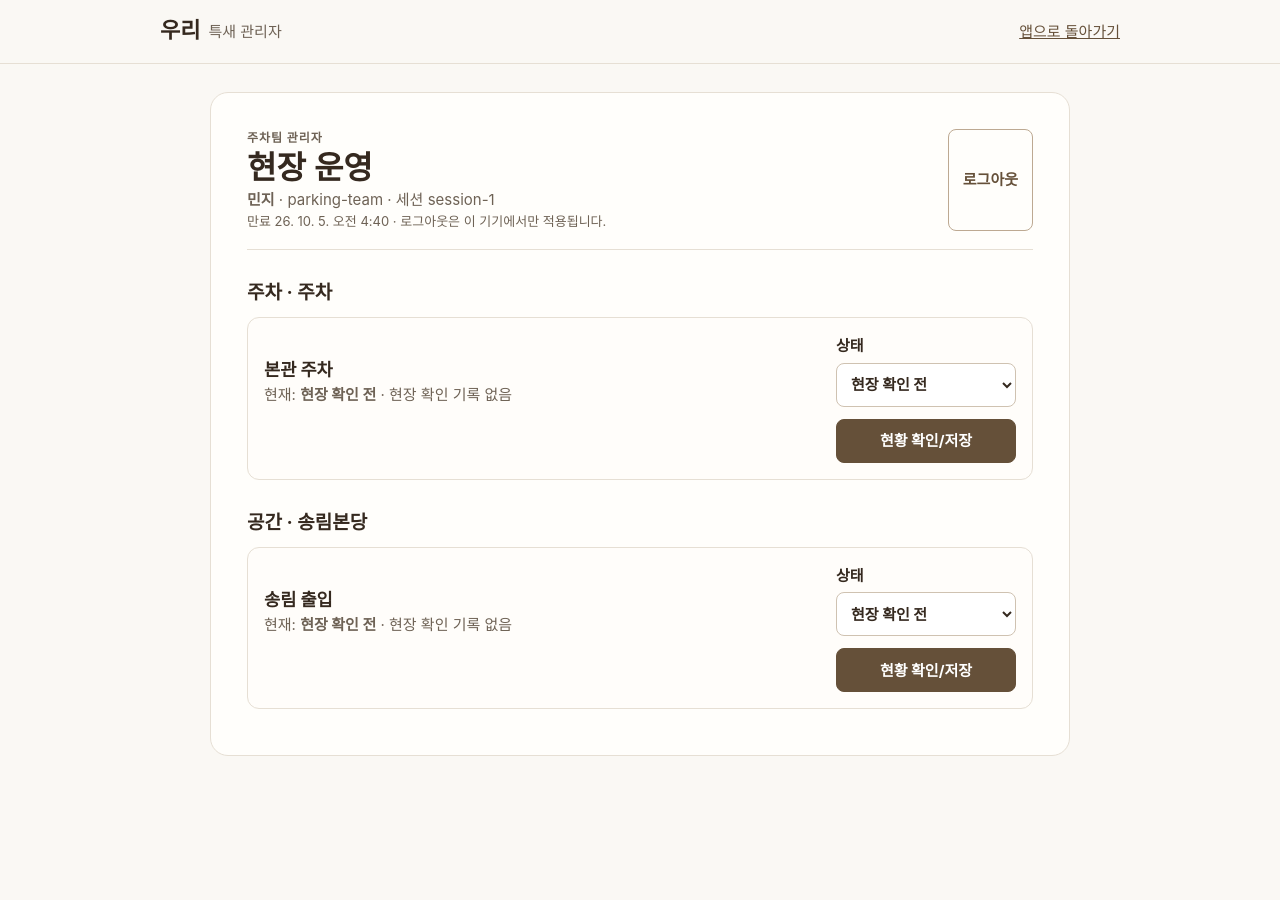
it: role-aware AdminApp › preserves a draft on 409 and requires an explicit latest-state reread before resend
Select "만차" in the dropdown named "본관 주차 상태" at (926, 385), box left=836, top=363, right=1016, bottom=407
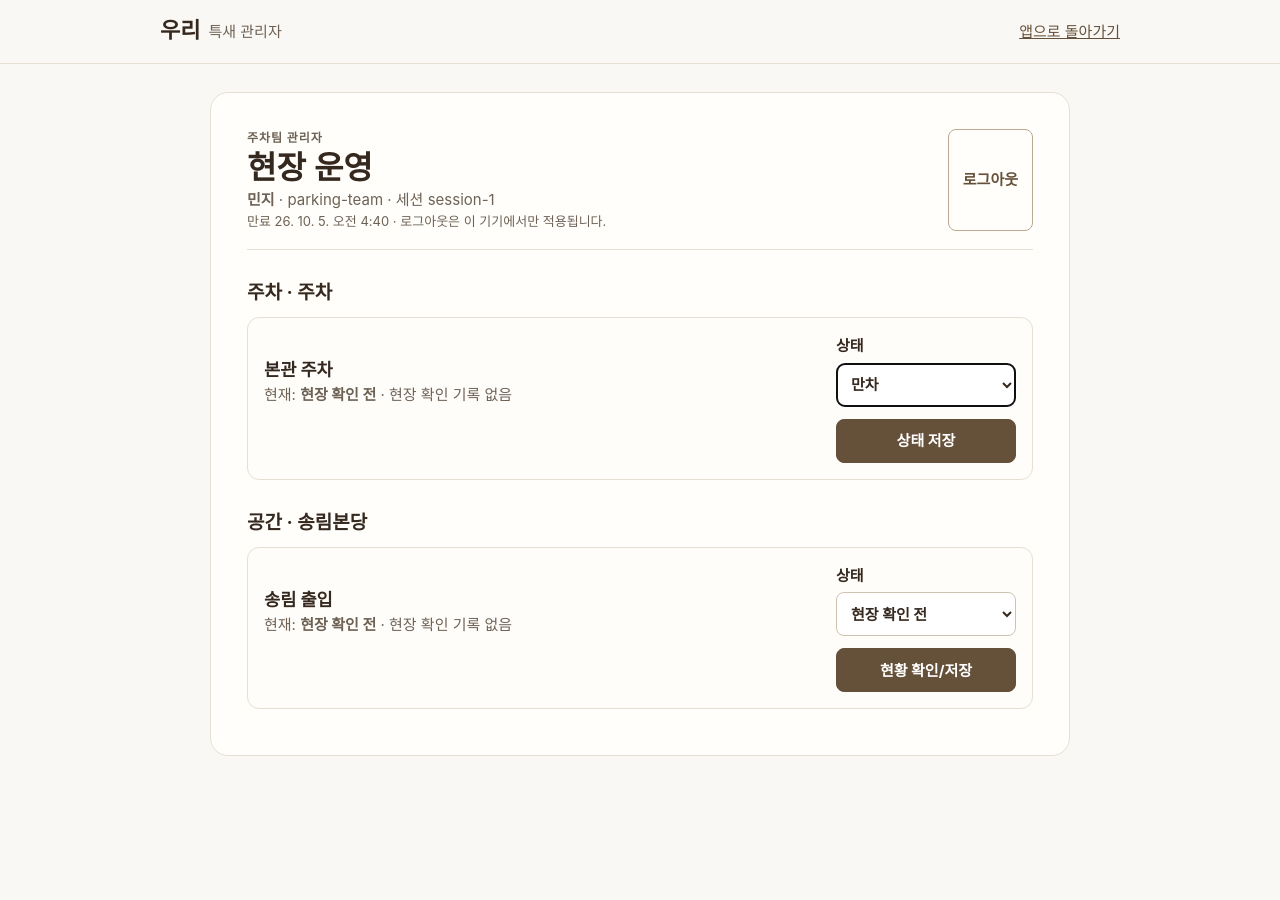
Click the button "상태 저장" at (926, 441), box left=836, top=419, right=1016, bottom=463
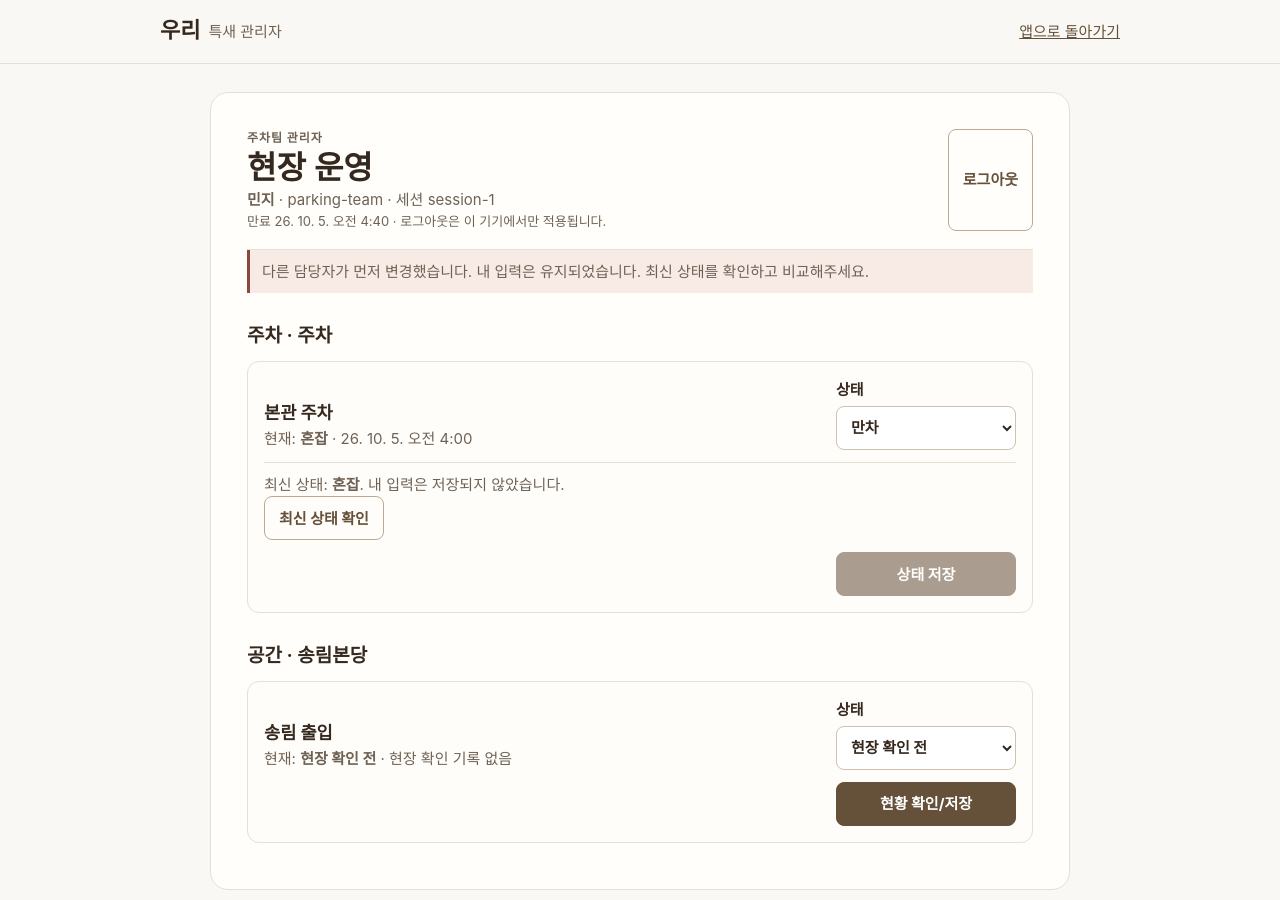
Result: the text "다른 담당자가 먼저 변경했습니다. 내 입력은 유지되었습니다. 최신 상태를 확인하고 비교해주세요." is shown at left=247, top=250, right=1033, bottom=293
Result: the button "상태 저장" is disabled at left=836, top=552, right=1016, bottom=596
Click the button "최신 상태 확인" at (324, 518), box left=264, top=496, right=384, bottom=540
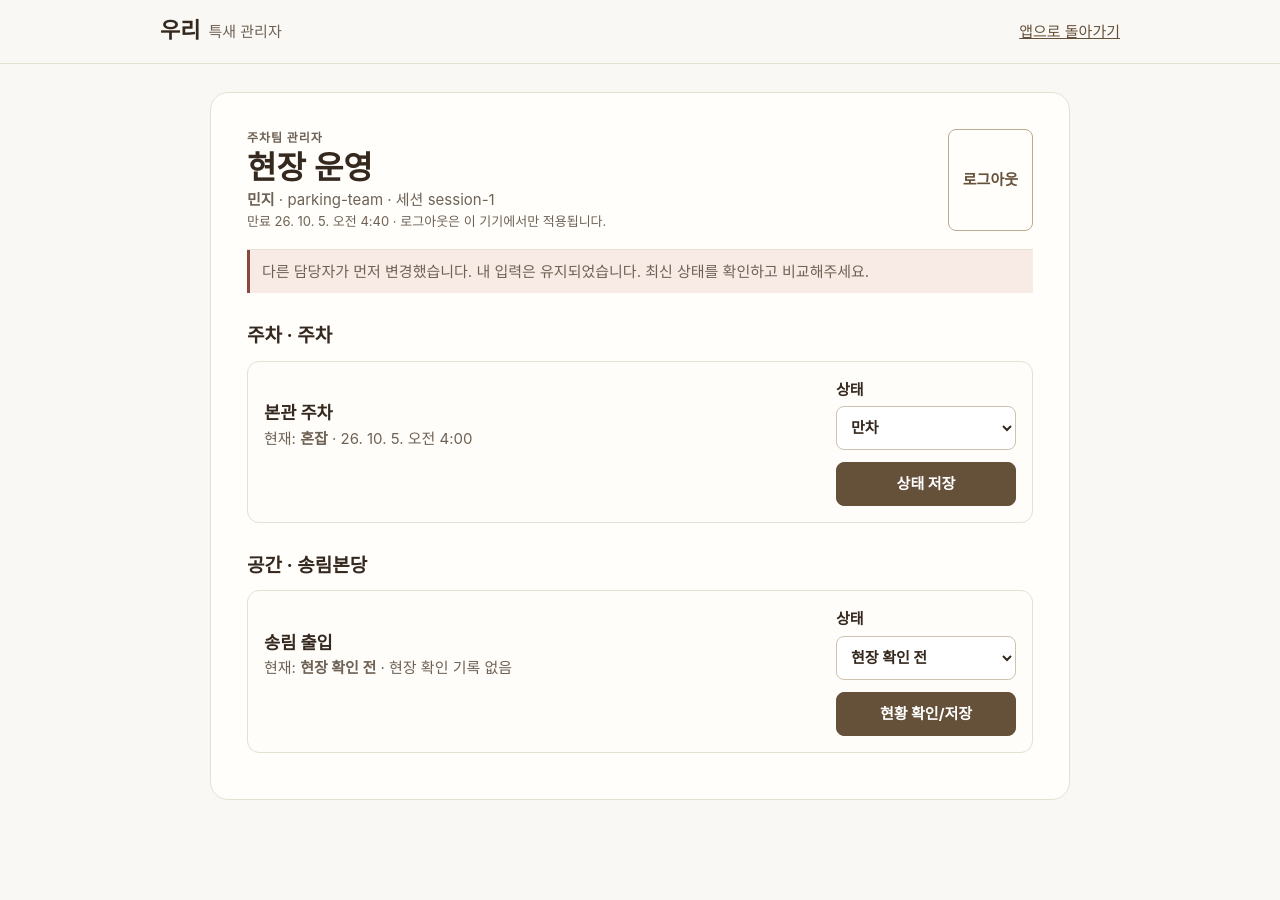
Result: the button "상태 저장" is enabled at left=836, top=462, right=1016, bottom=506
